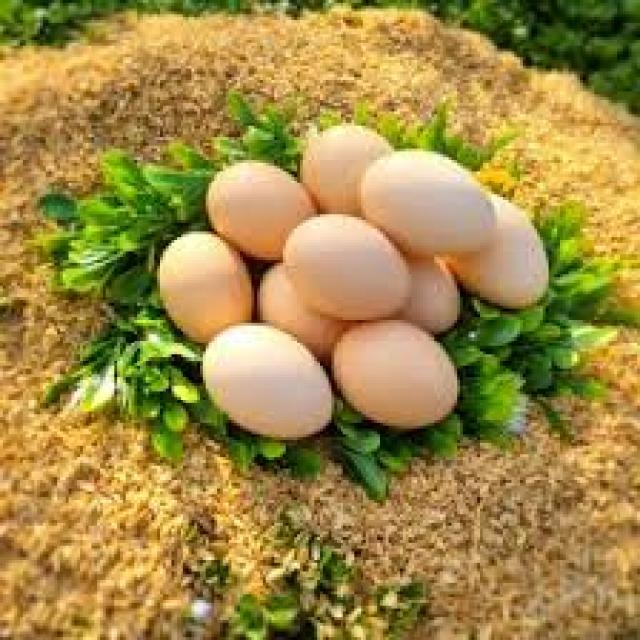Egg: (203, 326, 334, 443), (360, 151, 497, 257), (283, 214, 414, 323)
